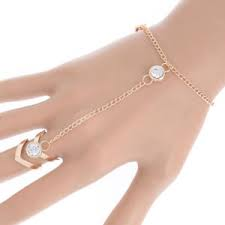hand: (1, 26, 204, 223)
